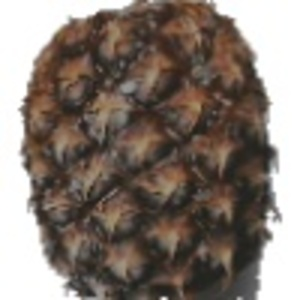abacaxi: (15, 3, 283, 296)
